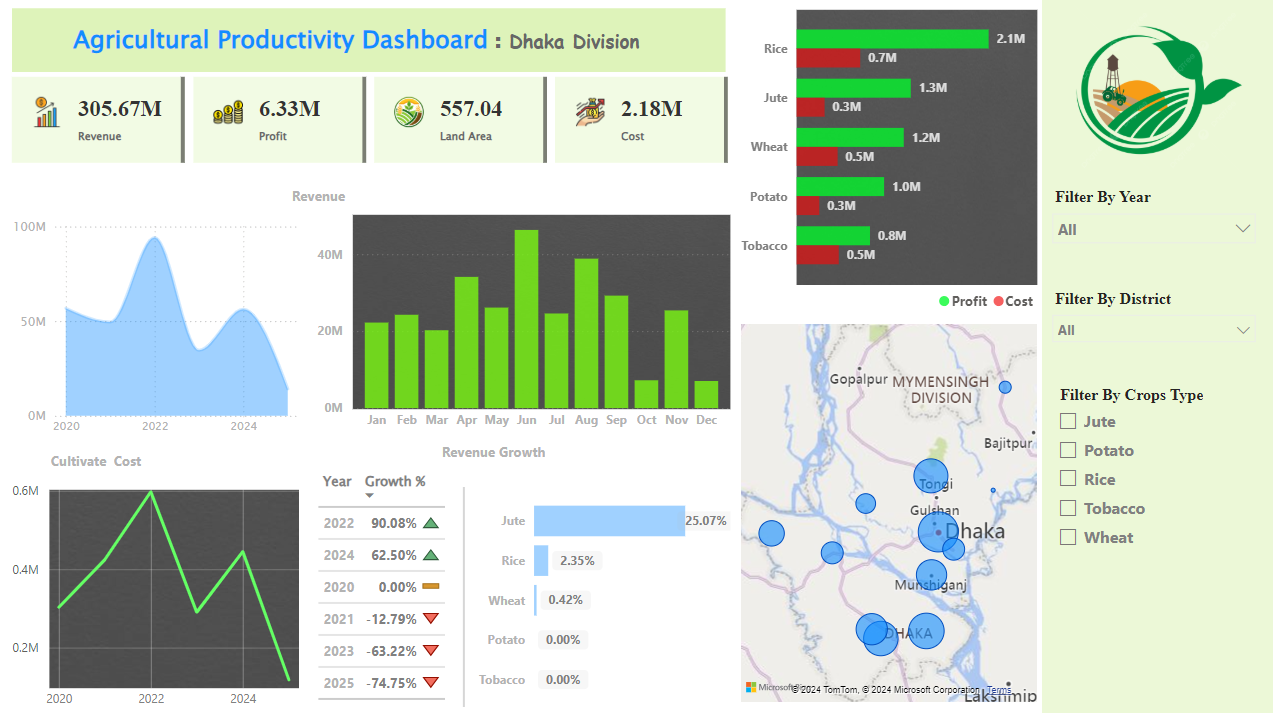

The page's visual inventory and layout, read from the dashboard file:
{"tool":"powerbi","page":{"name":"Page 1","canvas":[1280,720],"ordinal":0},"visuals":[{"type":"cardVisual","fields":{"Data":["Sheet1.Revenue","Sheet1.Total Profit","Sheet1.Total Land Area","Sheet1.Total Cost"]},"box":[10,75,728.8,96.2],"z":0},{"type":"lineChart","fields":{"Y":["Sheet1.Revenue"],"Category":["Calendar.Date.Variation.Date Hierarchy.Year"]},"box":[10,213.8,300,236.2],"z":1000},{"type":"shape","box":[1045,0,233.3,720],"z":2000},{"type":"slicer","fields":{"Values":["Sheet1.Cultivate Area"]},"box":[1044.9,287.4,223.9,72.1],"z":3000},{"type":"slicer","fields":{"Values":["Calendar.Year"]},"box":[1044.9,186.6,223.9,93.3],"z":4000},{"type":"slicer","fields":{"Values":["Sheet1.Crops Type"]},"box":[1049.9,383.1,214,195.3],"z":5000},{"type":"image","box":[1044.9,0,233.9,186.6],"z":6000},{"type":"lineChart","fields":{"Y":["Sheet1.Total Cost"],"Category":["Calendar.Date.Variation.Date Hierarchy.Year"]},"box":[10,480,300,240],"z":7000},{"type":"columnChart","title":"Revenue by Month","fields":{"Y":["Sheet1.Revenue"],"Category":["Calendar.Month"]},"box":[315,205,423.8,236.2],"z":8000},{"type":"tableEx","fields":{"Values":["Calendar.Date.Variation.Date Hierarchy.Year","Sheet1.Revenue Growth"]},"box":[315,463.8,152.5,246.2],"z":9000},{"type":"barChart","fields":{"Category":["Sheet1.Crops Type"],"Y":["Sheet1.Revenue Growth"]},"box":[476.2,480,262.5,240],"z":10000},{"type":"textbox","box":[48.5,450.3,160.5,29.9],"z":11000},{"type":"textbox","box":[290,185,76.2,40],"z":12000},{"type":"shape","box":[415,490,103.8,220],"z":13000},{"type":"textbox","box":[440.4,441.6,130.6,38.6],"z":14000},{"type":"shape","box":[15,11.2,713.8,63.8],"z":15000},{"type":"textbox","box":[71.2,20,631.2,55],"z":16000},{"type":"map","fields":{"Category":["Sheet1.District"],"Size":["Sheet1.Revenue"]},"box":[738.6,322.9,305.7,387.1],"z":17000},{"type":"clusteredBarChart","fields":{"Category":["Sheet1.Crops Type"],"Y":["Sheet1.Total Profit","Sheet1.Total Cost"]},"box":[738.6,0,307.1,322.9],"z":17001}]}

Visuals, with their boxes in screenshot pixels (x1, y1, x2, y2), scaled from the page's 1280x720 canvas onto the 1273x713 screenshot:
cardVisual - Sheet1.Revenue x Sheet1.Total Profit: (x1=10, y1=74, x2=735, y2=170)
lineChart - Sheet1.Revenue x Calendar.Date.Variation.Date Hierarchy.Year: (x1=10, y1=212, x2=308, y2=446)
shape: (x1=1039, y1=0, x2=1271, y2=712)
slicer - Sheet1.Cultivate Area: (x1=1039, y1=285, x2=1262, y2=356)
slicer - Calendar.Year: (x1=1039, y1=185, x2=1262, y2=277)
slicer - Sheet1.Crops Type: (x1=1044, y1=379, x2=1257, y2=573)
image: (x1=1039, y1=0, x2=1272, y2=185)
lineChart - Sheet1.Total Cost x Calendar.Date.Variation.Date Hierarchy.Year: (x1=10, y1=475, x2=308, y2=712)
"Revenue by Month" columnChart: (x1=313, y1=203, x2=735, y2=437)
tableEx - Calendar.Date.Variation.Date Hierarchy.Year x Sheet1.Revenue Growth: (x1=313, y1=459, x2=465, y2=703)
barChart - Sheet1.Crops Type x Sheet1.Revenue Growth: (x1=474, y1=475, x2=735, y2=712)
textbox: (x1=48, y1=446, x2=208, y2=476)
textbox: (x1=288, y1=183, x2=364, y2=223)
shape: (x1=413, y1=485, x2=516, y2=703)
textbox: (x1=438, y1=437, x2=568, y2=476)
shape: (x1=15, y1=11, x2=725, y2=74)
textbox: (x1=71, y1=20, x2=699, y2=74)
map - Sheet1.District x Sheet1.Revenue: (x1=735, y1=320, x2=1039, y2=703)
clusteredBarChart - Sheet1.Crops Type x Sheet1.Total Profit: (x1=735, y1=0, x2=1040, y2=320)
